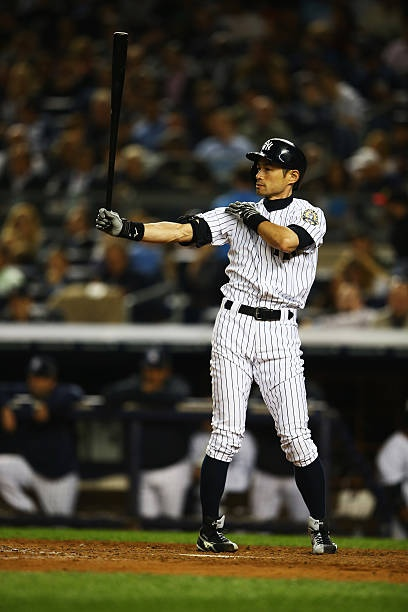bita: (99, 26, 136, 222)
